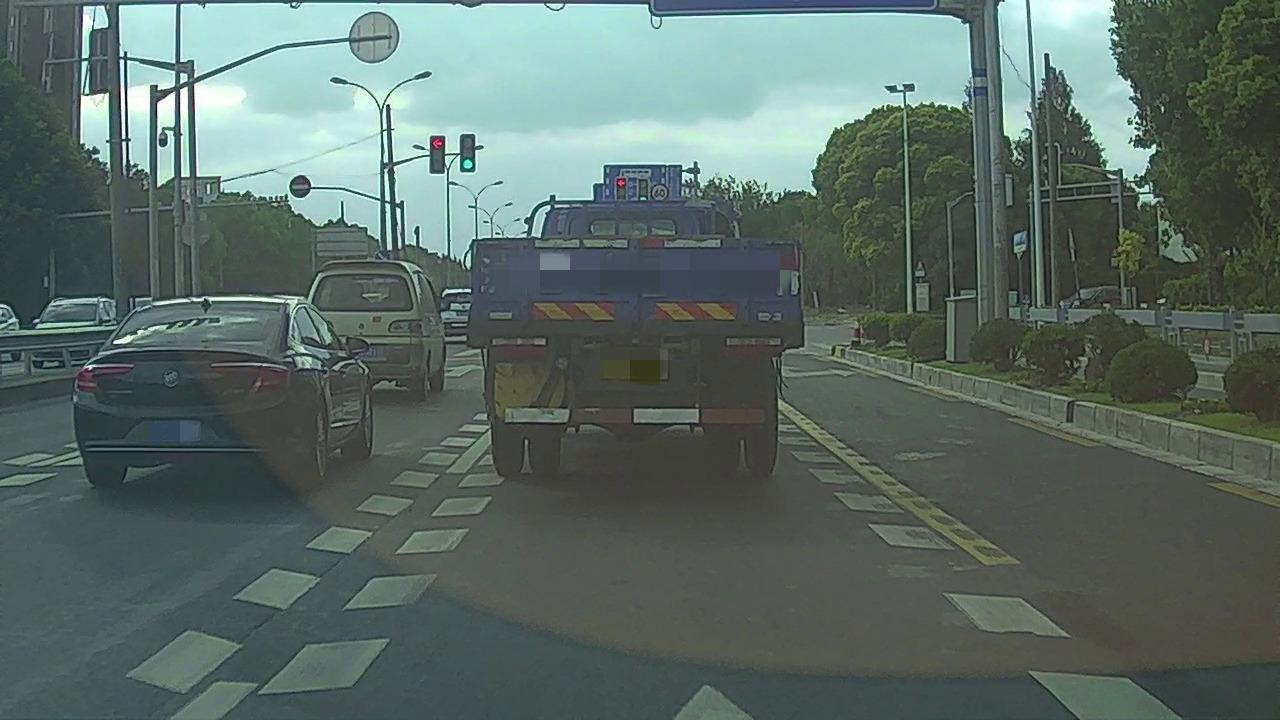traffic_light: (460, 133, 476, 173), (431, 136, 445, 174), (616, 177, 626, 201), (639, 179, 648, 201)
